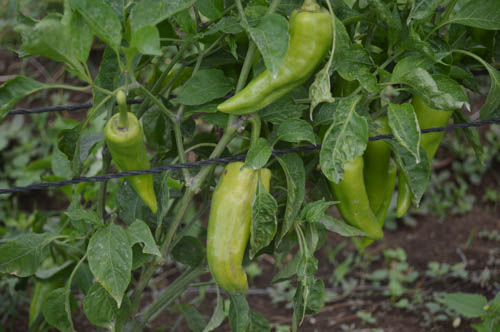ChiliPepper: (215, 12, 336, 113), (211, 163, 266, 296), (400, 96, 454, 221), (323, 124, 379, 238), (353, 122, 393, 249), (108, 116, 160, 210)
